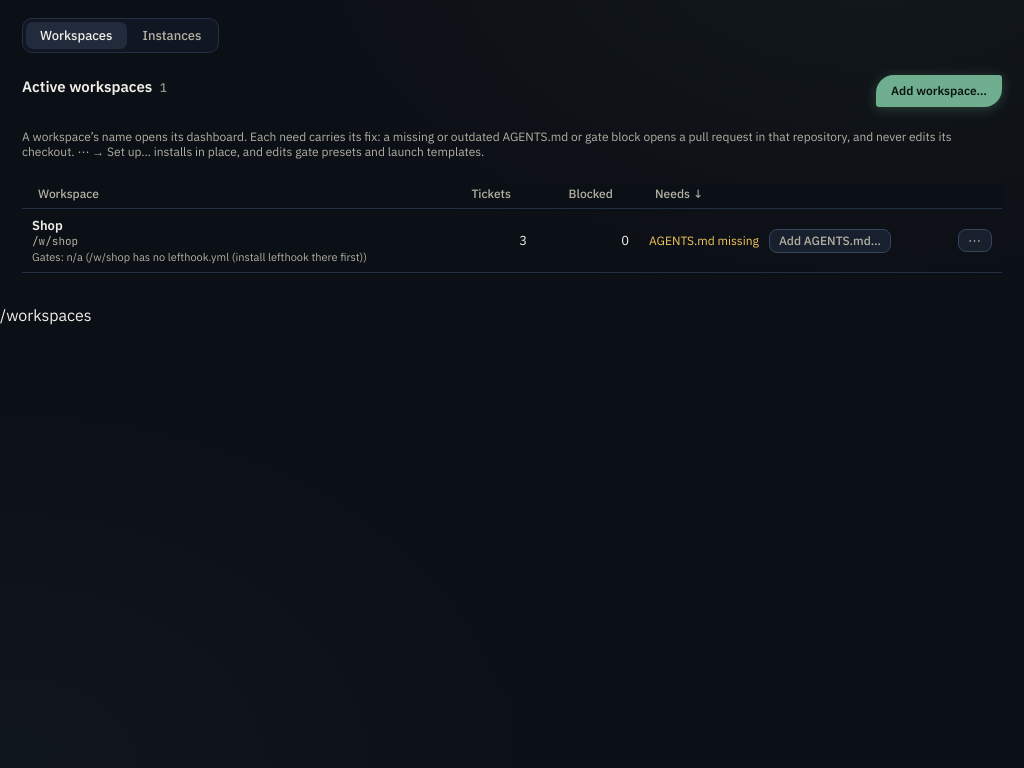
explains why a shadowed template will not launch
What coordinates should you click on to do the following:
click the button "⋯"
I would click on:
 (975, 241)
Its box is [958,229,992,252].
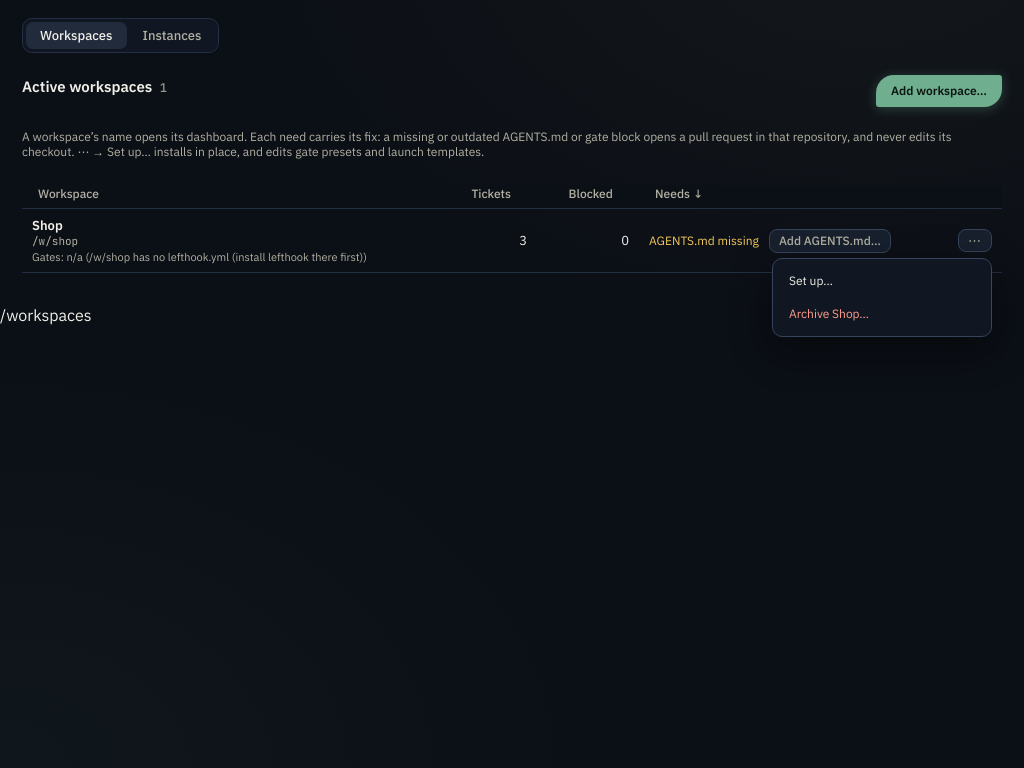
What coordinates should you click on to do the following:
click the menu item "Set up…"
I would click on:
 (882, 282)
Its box is [779,265,985,298].
(page scrolled)
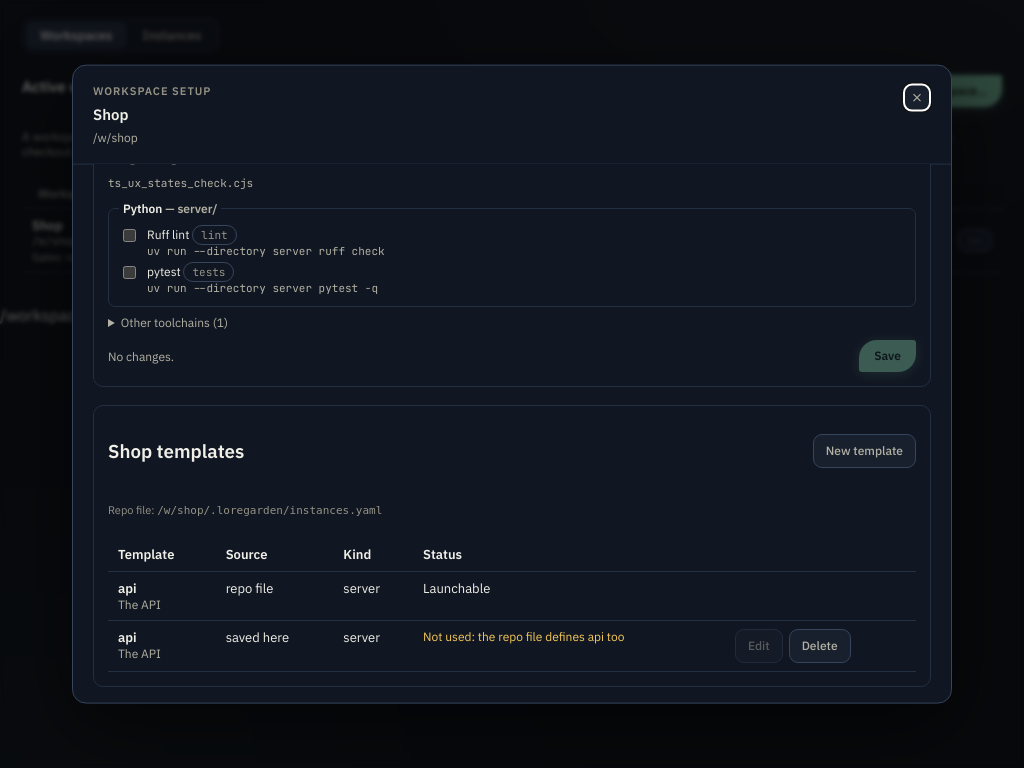
expect the text "Not used: the repo file defines api too" is shown: met, box [413,620,725,671]
